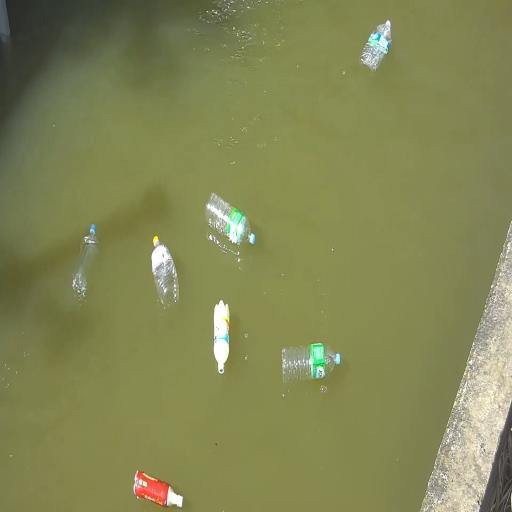plastic: (206, 193, 255, 245), (282, 344, 340, 383), (73, 224, 98, 301), (152, 237, 178, 307), (134, 471, 183, 507), (360, 20, 391, 70), (214, 301, 229, 374)
